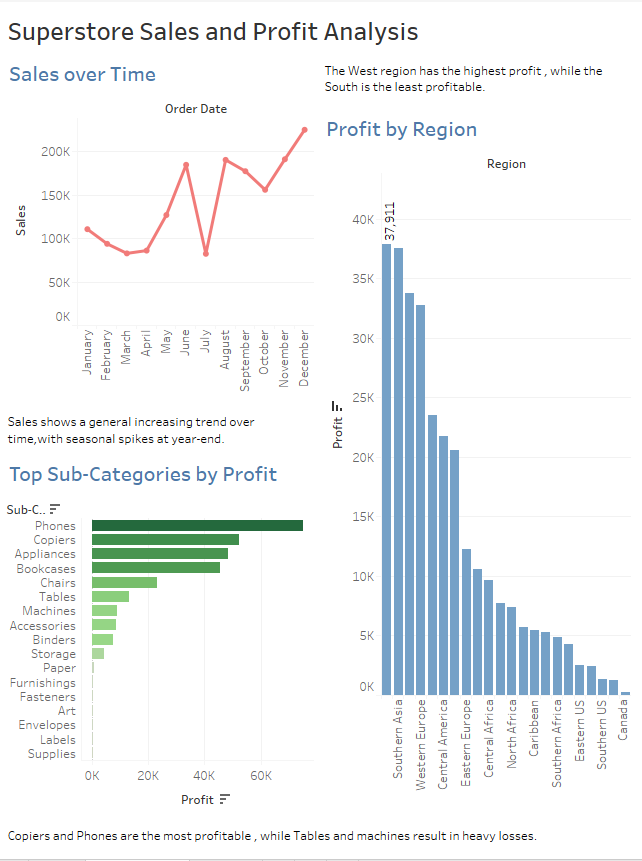

What the dashboard file says about the page in this screenshot:
{"tool":"tableau","page":{"name":"Dashboard 1","canvas":[650,860],"ordinal":0},"visuals":[{"type":"title","box":[8,8,634,41.1]},{"type":"worksheet","title":"Sheet 2","mark":"Automatic","rows":["Sales"],"cols":["Order Date"],"box":[8,49.2,317,358.9]},{"type":"text","box":[325,49.2,317,55.2]},{"type":"worksheet","title":"Sheet 1","mark":"Automatic","rows":["Profit"],"cols":["Region"],"box":[325,104.4,317,715.2]},{"type":"text","box":[8,408.1,317,42.5]},{"type":"worksheet","title":"Sheet 3","mark":"Automatic","rows":["Sub-Category"],"cols":["Profit"],"box":[8,450.6,317,368.9]},{"type":"text","box":[8,819.5,634,32.5]}]}

Visuals, with their boxes in screenshot pixels (x1, y1, x2, y2), scaled from the page's 650x860 canvas onto the 642x861 screenshot:
title: box=[8, 8, 634, 49]
"Sheet 2" worksheet: box=[8, 49, 321, 409]
text: box=[321, 49, 634, 105]
"Sheet 1" worksheet: box=[321, 105, 634, 821]
text: box=[8, 409, 321, 451]
"Sheet 3" worksheet: box=[8, 451, 321, 820]
text: box=[8, 820, 634, 853]
